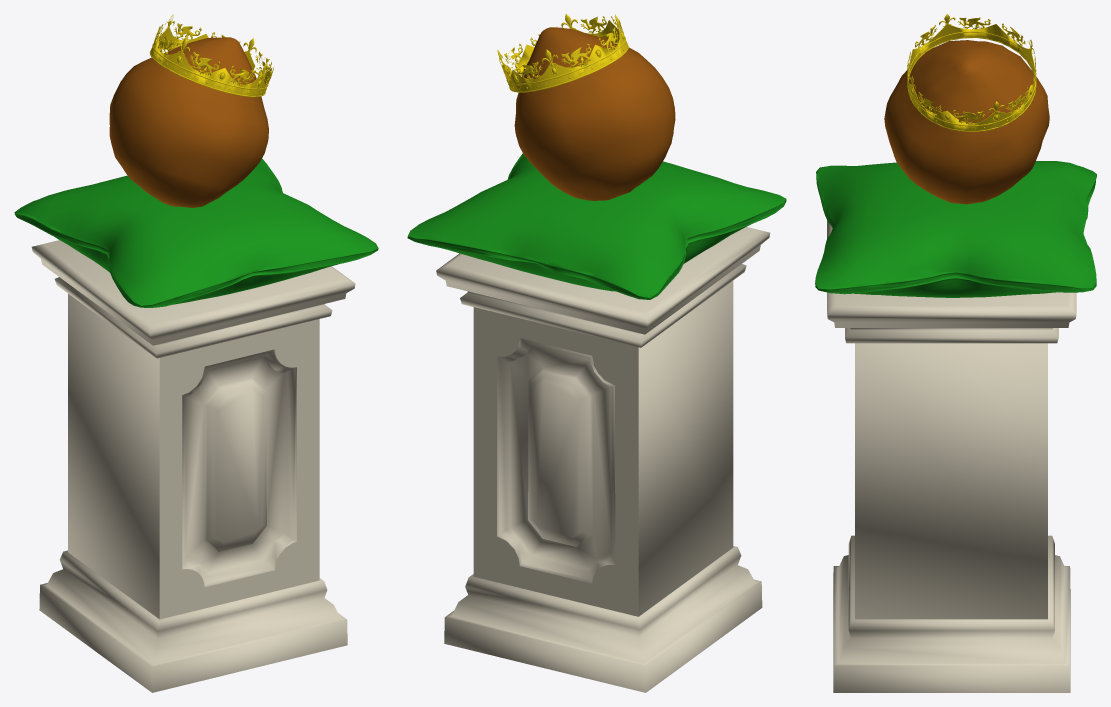
The model's file is trophy_hacker.gltf.
3 renders of one model, left to right at view 1: azimuth 30°, elevation 25°; view 2: azimuth 150°, elevation 25°; view 3: azimuth 270°, elevation 25°, orthographic. The views are drawn at different scales.
Parts seen in each view (by area): view 1: 001_Pedestal_low_poly, pillow, hazelnut.001, Crown; view 2: 001_Pedestal_low_poly, pillow, hazelnut.001, Crown; view 3: 001_Pedestal_low_poly, pillow, hazelnut.001, Crown.
Boxes of the visible parts, x1,y1,x2,y2 form: 001_Pedestal_low_poly: (31, 240, 355, 692); pillow: (14, 158, 378, 307); hazelnut.001: (109, 37, 268, 207); Crown: (149, 14, 274, 97); 001_Pedestal_low_poly: (436, 227, 770, 692); pillow: (407, 153, 786, 299); hazelnut.001: (514, 27, 675, 200); Crown: (497, 14, 628, 92); 001_Pedestal_low_poly: (827, 220, 1076, 692); pillow: (815, 161, 1096, 297); hazelnut.001: (884, 40, 1049, 204); Crown: (907, 14, 1036, 131).
Bounding box in the file's own units: 2.55 × 5.96 × 2.44.
